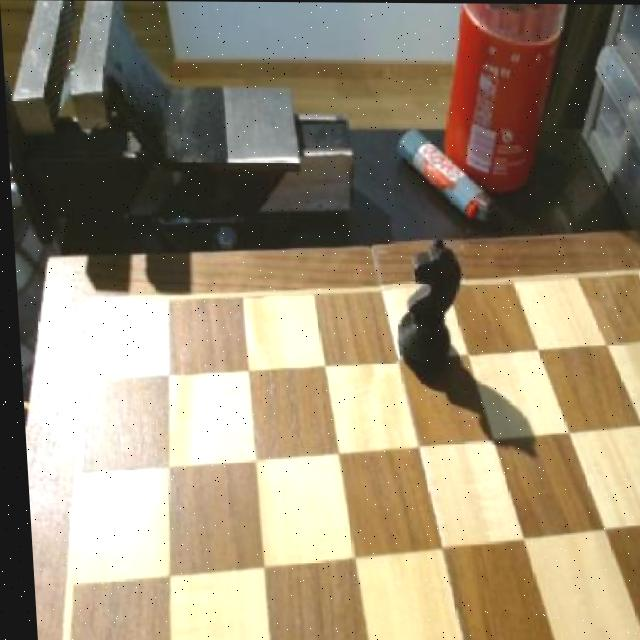black-king: (387, 236, 466, 375)
